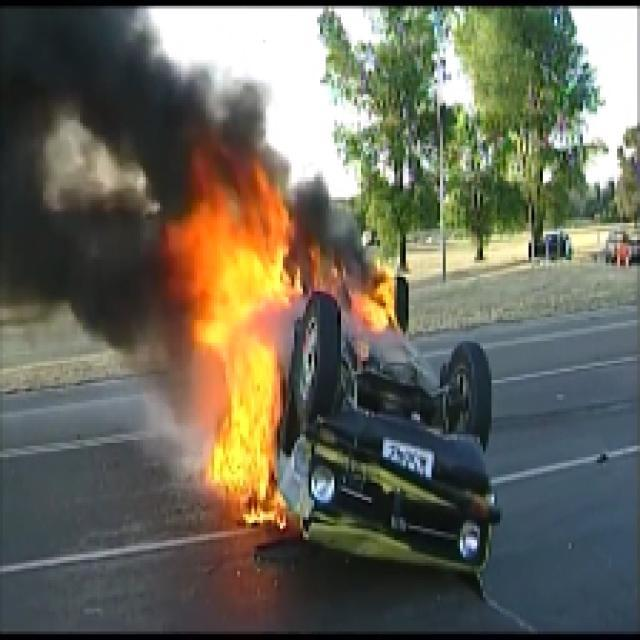Fire: (166, 180, 280, 514), (348, 274, 394, 337)
Smoke: (2, 9, 172, 348)
